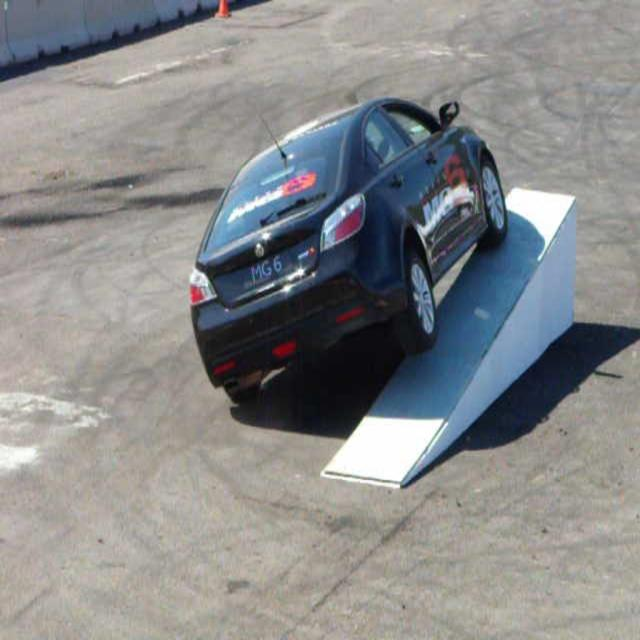car: (183, 89, 503, 411)
